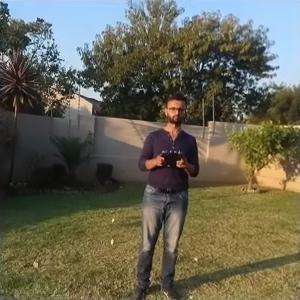follow: (130, 85, 201, 298)
